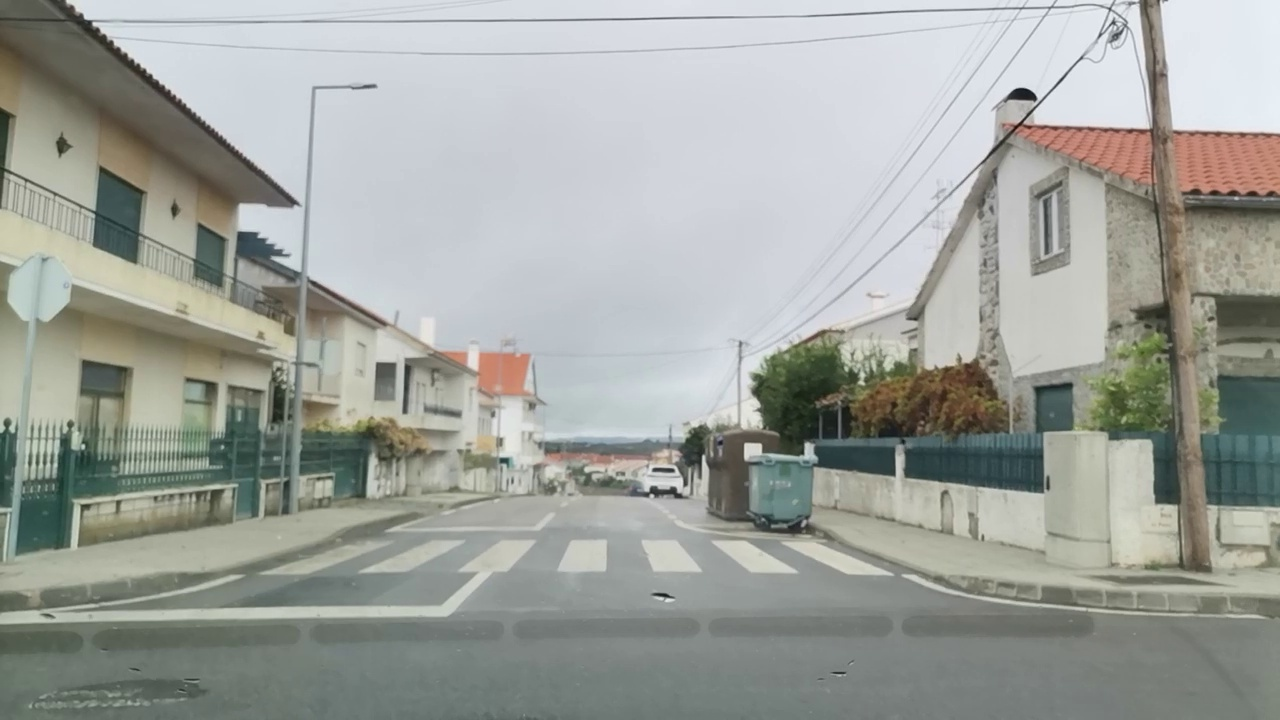Stairs: (258, 538, 900, 574)
